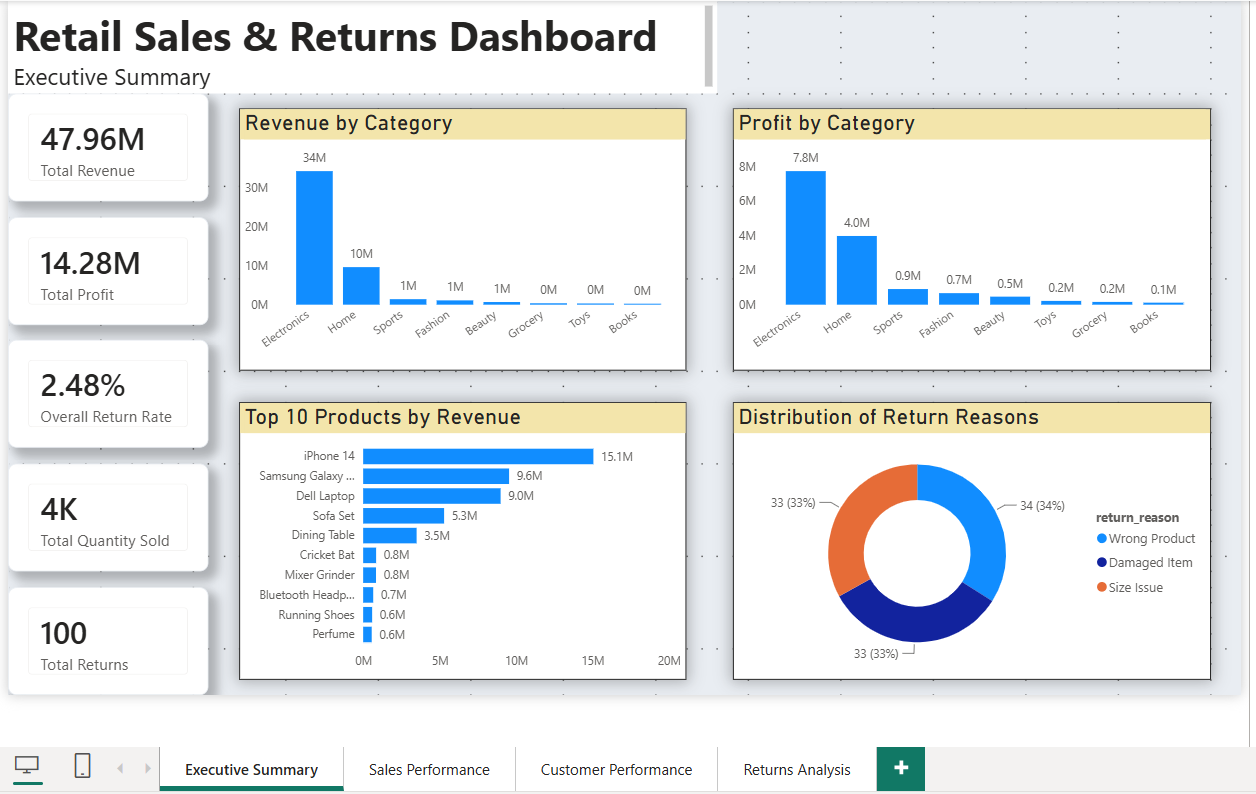

This screenshot's page, from the dashboard's own definition file:
{"tool":"powerbi","page":{"name":"Executive Summary","canvas":[1280,720],"ordinal":0},"visuals":[{"type":"columnChart","title":"Revenue by Category","fields":{"Category":["vw_category_performance.category_name"],"Y":["Sum(vw_category_performance.total_revenue)"]},"box":[240,112,464,272],"z":0},{"type":"columnChart","title":"Profit by Category","fields":{"Category":["vw_category_performance.category_name"],"Y":["Sum(vw_category_performance.total_profit)"]},"box":[752,112,496,272],"z":1000},{"type":"clusteredBarChart","title":"Top 10 Products by Revenue","fields":{"Category":["vw_product_performance.product_name"],"Y":["Sum(vw_product_performance.total_Revenue)"]},"box":[240,416,464,288],"z":2000},{"type":"donutChart","title":"Distribution of Return Reasons","fields":{"Category":["vw_return_reason_analysis.return_reason"],"Y":["Sum(vw_return_reason_analysis.total_returns)"]},"box":[752,416,496,288],"z":3000},{"type":"cardVisual","fields":{"Data":["Sum(vw_category_performance.total_revenue)"]},"box":[0,96,208,112],"z":4000},{"type":"cardVisual","fields":{"Data":["Sum(vw_category_performance.total_profit)"]},"box":[0,224,208,112],"z":5000},{"type":"cardVisual","fields":{"Data":["Sum(vw_category_performance.total_quantity_sold)"]},"box":[0,480,208,112],"z":6000},{"type":"cardVisual","fields":{"Data":["vw_return_reason_analysis.Total Returns"]},"box":[0,608,208,112],"z":7000},{"type":"cardVisual","fields":{"Data":["vw_category_performance.Overall Return Rate"]},"box":[0,352,208,112],"z":8000},{"type":"textbox","box":[0,0,736,96],"z":9000}]}

Visuals, with their boxes on the page's 1280x720 design canvas (x1, y1, x2, y2). These are canvas units, not pixel positions in the 1256x794 screenshot, which may show the page scaled, cropped or inside an application window:
"Revenue by Category" columnChart: bbox(240, 112, 704, 384)
"Profit by Category" columnChart: bbox(752, 112, 1248, 384)
"Top 10 Products by Revenue" clusteredBarChart: bbox(240, 416, 704, 704)
"Distribution of Return Reasons" donutChart: bbox(752, 416, 1248, 704)
cardVisual - Sum(vw_category_performance.total_revenue): bbox(0, 96, 208, 208)
cardVisual - Sum(vw_category_performance.total_profit): bbox(0, 224, 208, 336)
cardVisual - Sum(vw_category_performance.total_quantity_sold): bbox(0, 480, 208, 592)
cardVisual - vw_return_reason_analysis.Total Returns: bbox(0, 608, 208, 720)
cardVisual - vw_category_performance.Overall Return Rate: bbox(0, 352, 208, 464)
textbox: bbox(0, 0, 736, 96)
